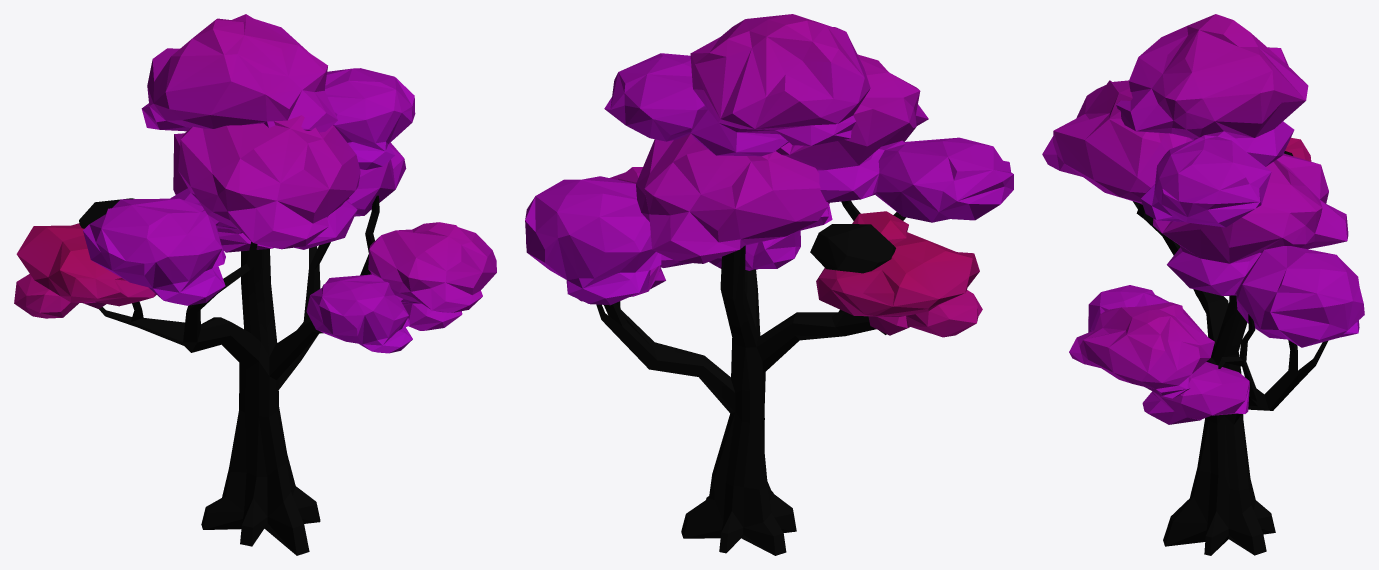
File: SM_Env_Tree_Large_02.glb
3 renders of one model, left to right at view 1: azimuth 30°, elevation 25°; view 2: azimuth 150°, elevation 25°; view 3: azimuth 270°, elevation 25°, orthographic. The views are drawn at different scales.
Visible parts, largest first — view 1: SM_Env_Tree_Large_02; view 2: SM_Env_Tree_Large_02; view 3: SM_Env_Tree_Large_02.
Boxes of the visible parts, <box> form: SM_Env_Tree_Large_02: <box>14,14,496,555</box>; SM_Env_Tree_Large_02: <box>525,14,1013,555</box>; SM_Env_Tree_Large_02: <box>1042,14,1364,555</box>.
Size of the model in its own units: 12.49 by 14.52 by 8.5.
